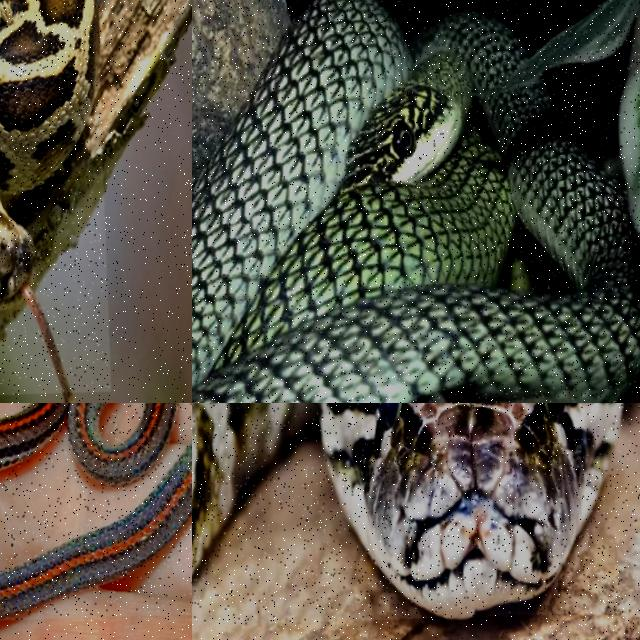Calliophis intestinalis: (0, 403, 175, 484)
Chrysopelea ornata: (192, 0, 639, 402)
Python bivittatus: (192, 403, 623, 618), (0, 0, 98, 308)
snake: (192, 0, 639, 402), (192, 403, 623, 618), (0, 0, 98, 308), (0, 403, 175, 484)
